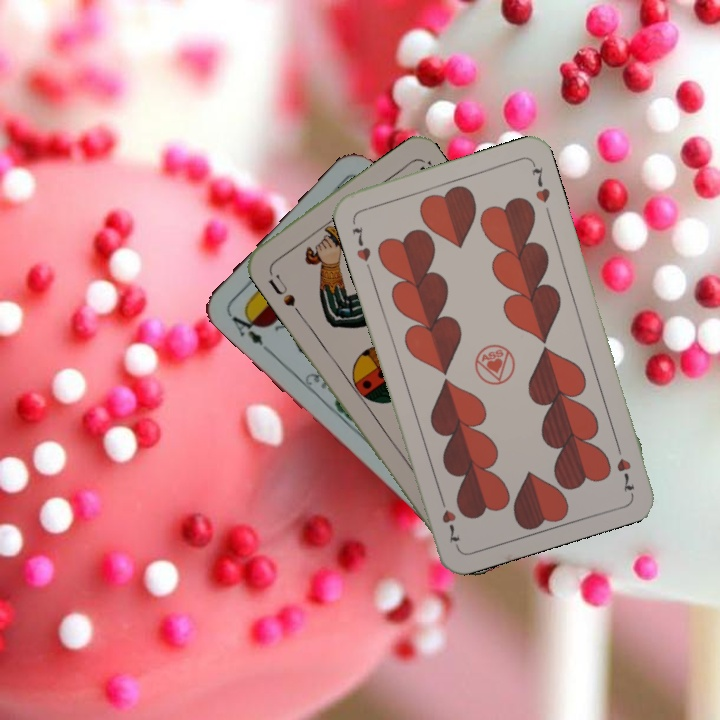EA: (224, 306, 271, 354)
H7: (611, 438, 637, 496), (348, 222, 373, 264)
SU: (264, 265, 298, 309)
